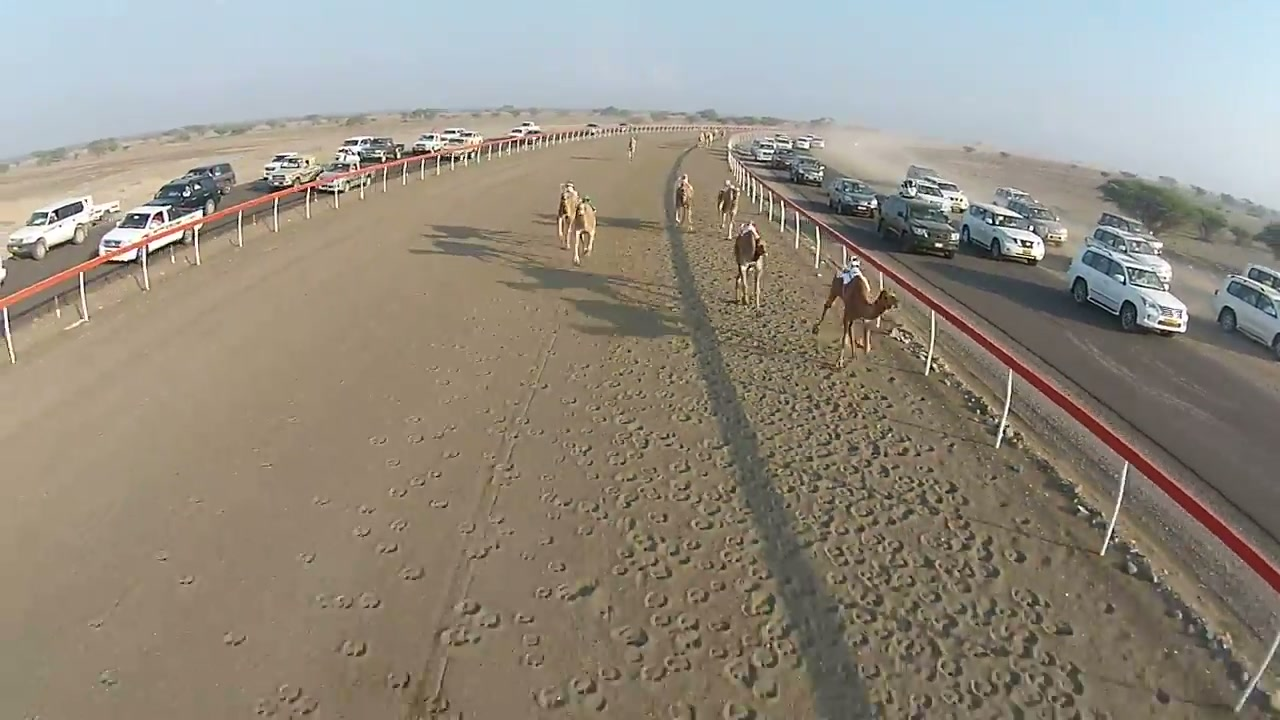animal_footprint: (323, 199, 1220, 718)
